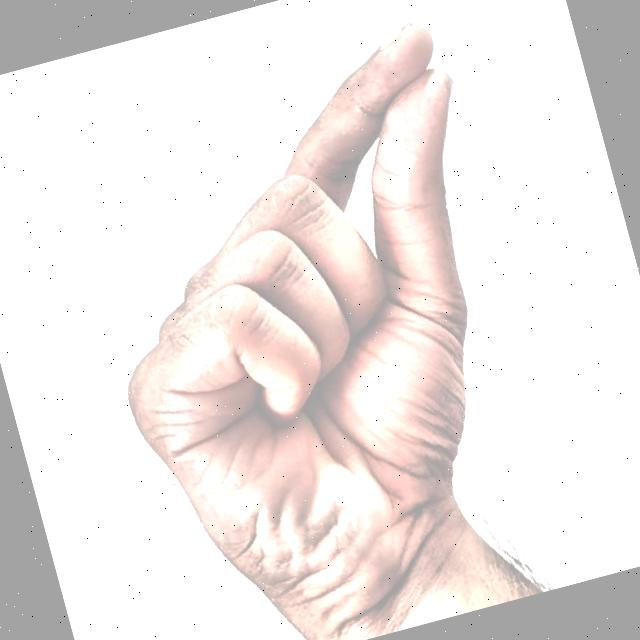Anusshar: (11, 0, 597, 640)
